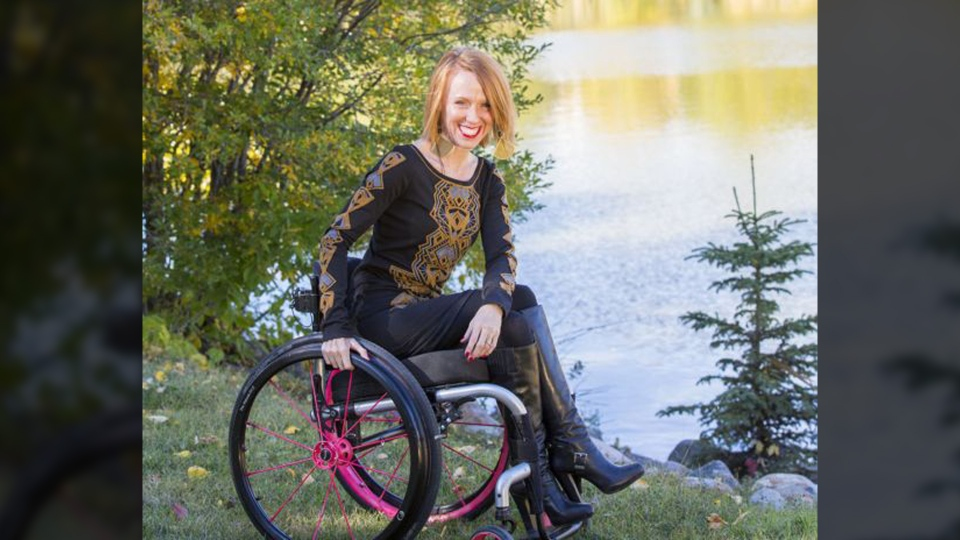person: (327, 50, 542, 288)
wheelchair: (210, 297, 604, 540)
